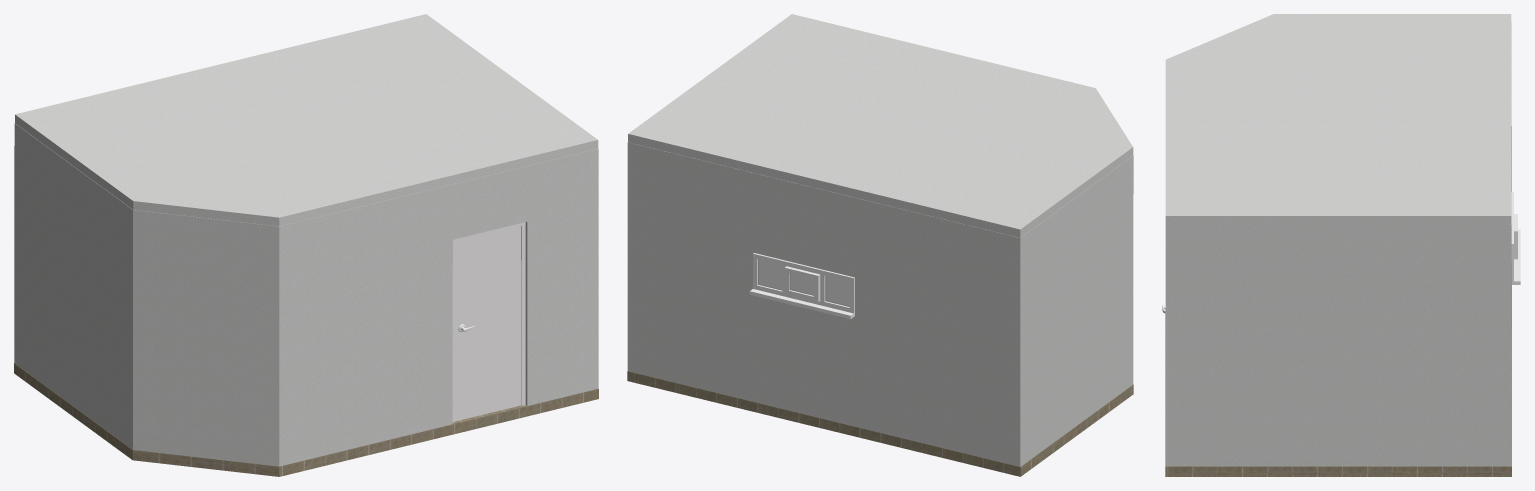
Rendered from FloorPlan412_physics.fbx.
The picture shows the model from 3 angles, left to right: view 1: azimuth 30°, elevation 25°; view 2: azimuth 150°, elevation 25°; view 3: azimuth 270°, elevation 25°; orthographic projection. The views are drawn at different scales.
Parts seen in each view (by area): view 1: FP412:Walls, FP412:Ceiling, FP412:Door.006, FP412:Floor, FP412:polySurface349; view 2: FP412:Walls, FP412:Ceiling, FP412:Floor, FP412:Window.012, FP412:Window.013; view 3: FP412:Walls, FP412:Ceiling, FP412:Floor, FP412:Window.012.
Boxes of the visible parts, <box> form: FP412:Walls: <box>14,123,598,466</box>; FP412:Ceiling: <box>15,14,598,226</box>; FP412:Door.006: <box>455,226,520,421</box>; FP412:Floor: <box>14,363,598,476</box>; FP412:polySurface349: <box>452,222,525,422</box>; FP412:Walls: <box>627,142,1133,466</box>; FP412:Ceiling: <box>628,14,1133,237</box>; FP412:Floor: <box>627,371,1133,476</box>; FP412:Window.012: <box>749,253,854,319</box>; FP412:Window.013: <box>759,259,849,305</box>; FP412:Walls: <box>1165,23,1511,466</box>; FP412:Ceiling: <box>1165,14,1511,224</box>; FP412:Floor: <box>1165,310,1511,476</box>; FP412:Window.012: <box>1511,192,1520,284</box>.
Size of the model in its own units: 468 by 281 by 350.
